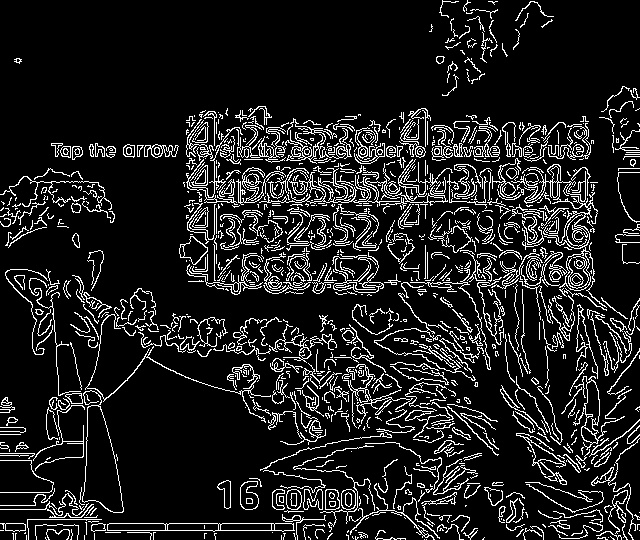down: (376, 226, 420, 268)
right: (171, 229, 213, 270), (436, 220, 475, 260), (253, 213, 291, 248)
